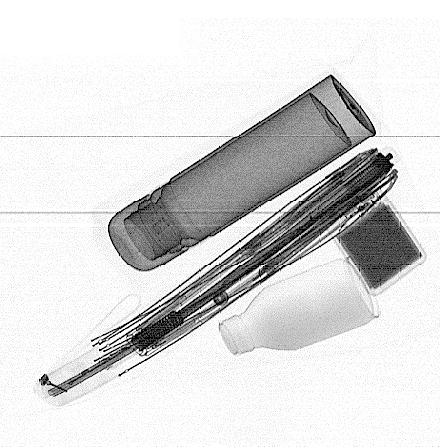Powerbank: (327, 194, 429, 297)
